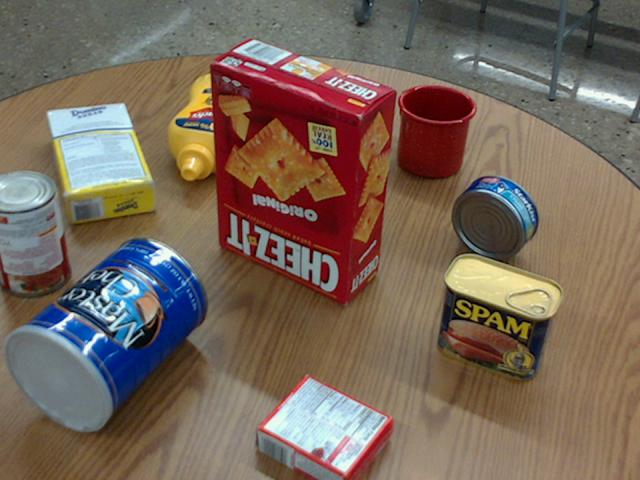cracker_box: (209, 38, 396, 303)
gelatin_box: (256, 374, 392, 479)
large_marker: (320, 100, 350, 158)
master_chef_can: (4, 236, 206, 432)
mug: (395, 84, 475, 178)
mustard_bottle: (167, 73, 268, 179)
potted_meat_can: (437, 254, 563, 379)
sugar_box: (45, 98, 155, 224)
tomato_soup_can: (0, 169, 70, 296)
tuna_fish_can: (451, 174, 537, 259)
